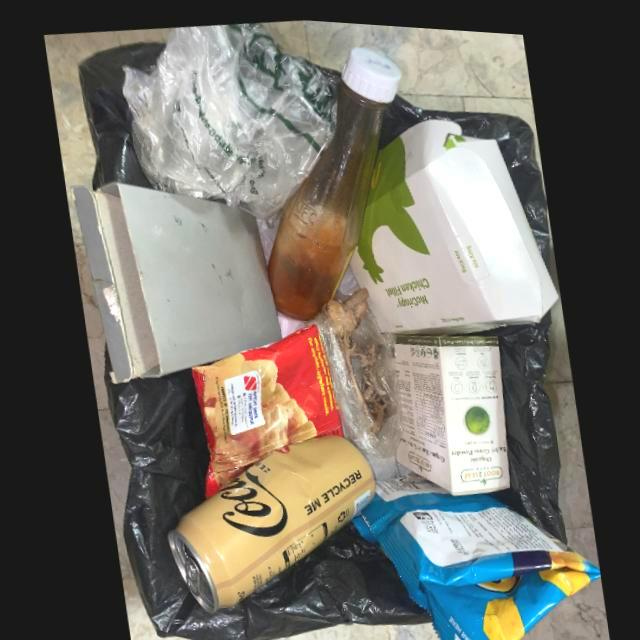aluminum: (165, 430, 374, 611)
cardboard: (349, 113, 558, 330), (70, 181, 282, 383), (392, 329, 508, 490)
food_wrapper: (350, 470, 598, 640), (189, 321, 342, 497)
glass_bottle: (266, 42, 401, 318)
left_over_food: (326, 282, 394, 431)
plastic_bag: (121, 19, 341, 221), (313, 312, 400, 453)
